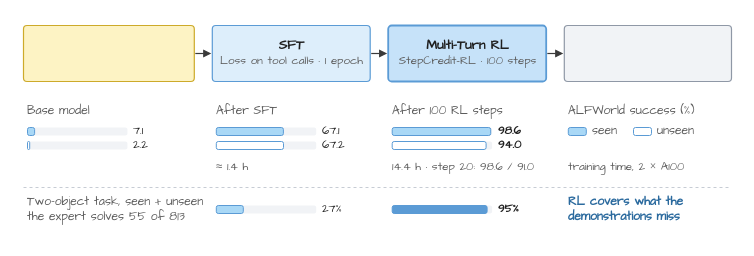
This 754x256 diagram has some shape labels left out. The shapes that lost their labels are listed below. From the top down, each one's box as (x1, y1, x2, y2) in pixels, then its label:
(22, 24, 194, 82): Expert Demonstrations 2,145 of 3,553 games solved
(563, 24, 732, 82): Paired Evaluation Same tasks · McNemar test
